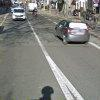Car: (49, 11, 91, 47)
